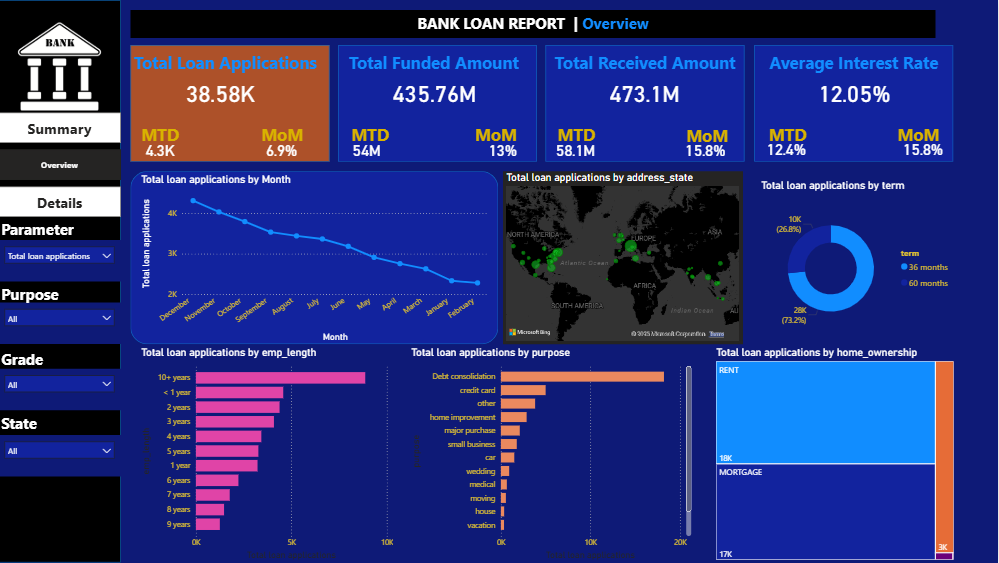

This screenshot's page, from the dashboard's own definition file:
{"tool":"powerbi","page":{"name":"Overview","canvas":[1600,900],"ordinal":1},"visuals":[{"type":"textbox","box":[211.7,15,1288.3,45],"z":0},{"type":"shape","box":[0,0,196.7,900],"z":1000},{"type":"shape","box":[211.7,71.7,318.3,186.7],"z":2000},{"type":"card","fields":{"Values":["financial_loan_full.Total loan applications"]},"box":[248.3,113.3,216.7,68.3],"z":3000},{"type":"card","fields":{"Values":["financial_loan_full.MTD loan applications"]},"box":[211.7,205,95,68.3],"z":4000},{"type":"card","fields":{"Values":["financial_loan_full.MoM Loan application"]},"box":[405,205,95,68.3],"z":5000},{"type":"textbox","box":[211.7,75,318.3,51.7],"z":6000},{"type":"textbox","box":[223.3,191.7,83.3,48.3],"z":7000},{"type":"textbox","box":[416.7,191.7,100,58.3],"z":8000},{"type":"shape","box":[543.3,71.7,318.3,186.7],"z":9000},{"type":"card","fields":{"Values":["financial_loan_full.Total Funded Amount"]},"box":[590,113.3,216.7,68.3],"z":10000},{"type":"card","fields":{"Values":["financial_loan_full.MTD Funded Amount"]},"box":[541.7,205,95,68.3],"z":11000},{"type":"textbox","box":[560,191.7,96.7,48.3],"z":12000},{"type":"card","fields":{"Values":["financial_loan_full.MoM Funded Amount"]},"box":[760,205,95,68.3],"z":13000},{"type":"textbox","box":[758.3,191.7,96.7,48.3],"z":14000},{"type":"textbox","box":[556.7,76.7,318.3,51.7],"z":15000},{"type":"shape","box":[875,71.7,318.3,186.7],"z":16000},{"type":"shape","box":[1210,71.7,318.3,186.7],"z":17000},{"type":"card","fields":{"Values":["financial_loan_full.Total Amount Received"]},"box":[926.7,113.3,216.7,68.3],"z":18000},{"type":"card","fields":{"Values":["financial_loan_full.MTD Received Amount"]},"box":[875,205,95,68.3],"z":19000},{"type":"textbox","box":[890,191.7,96.7,48.3],"z":20000},{"type":"card","fields":{"Values":["financial_loan_full.MTD Average Interest Rate"]},"box":[1214.3,204.3,94.3,68.6],"z":21000},{"type":"card","fields":{"Values":["financial_loan_full.MoM Received Amount"]},"box":[1083.3,206.7,95,68.3],"z":22000},{"type":"textbox","box":[1095,193.3,96.7,48.3],"z":23000},{"type":"textbox","box":[876.7,76.7,318.3,51.7],"z":24000},{"type":"card","fields":{"Values":["financial_loan_full.Average Intrest Rate"]},"box":[1261.7,113.3,216.7,68.3],"z":25000},{"type":"textbox","box":[1210,76.7,318.3,51.7],"z":26000},{"type":"textbox","box":[1228.6,192.9,97.1,48.6],"z":27000},{"type":"card","fields":{"Values":["financial_loan_full.MoM Received Amount"]},"box":[1432.9,204.3,95.7,68.6],"z":28000},{"type":"textbox","box":[1434.3,192.9,95.7,48.6],"z":29000},{"type":"slicer","fields":{"Values":["financial_loan_full.address_state"]},"box":[0,696.7,196.7,66.7],"z":30000},{"type":"textbox","box":[0,656.7,120,48.3],"z":31000},{"type":"slicer","fields":{"Values":["financial_loan_full.grade"]},"box":[0,590,196.7,66.7],"z":32000},{"type":"textbox","box":[0,553.3,120,48.3],"z":33000},{"type":"slicer","fields":{"Values":["financial_loan_full.purpose"]},"box":[0,483.3,196.7,66.7],"z":34000},{"type":"textbox","box":[0,450,120,48.3],"z":35000},{"type":"image","box":[0,8.3,196.7,196.7],"z":36000},{"type":"shape","box":[211.7,273.3,588.3,276.7],"z":37000},{"type":"lineChart","fields":{"Y":["financial_loan_full.Total loan applications"],"Category":["Date_Table.Month"]},"box":[223.3,276.7,565,276.7],"z":38000},{"type":"slicer","fields":{"Values":["Parameter.Parameter"]},"box":[0,383.3,196.7,66.7],"z":39000},{"type":"textbox","box":[0,346.7,196.7,48.3],"z":40000},{"type":"map","fields":{"Size":["financial_loan_full.Total loan applications"],"Category":["financial_loan_full.address_state"]},"box":[808.3,273.3,383.3,276.7],"z":41000},{"type":"donutChart","fields":{"Y":["financial_loan_full.Total loan applications"],"Category":["financial_loan_full.term"]},"box":[1215,285,318.3,268.3],"z":42000},{"type":"clusteredBarChart","fields":{"Y":["financial_loan_full.Total loan applications"],"Category":["financial_loan_full.emp_length"]},"box":[223.3,553.3,413.3,346.7],"z":43000},{"type":"clusteredBarChart","fields":{"Y":["financial_loan_full.Total loan applications"],"Category":["financial_loan_full.purpose"]},"box":[656.7,553.3,458.3,346.7],"z":44000},{"type":"treemap","fields":{"Values":["financial_loan_full.Total loan applications"],"Group":["financial_loan_full.home_ownership"]},"box":[1143.3,553.3,390,346.7],"z":45000},{"type":"pageNavigator","box":[0,180,197.5,167.5],"z":46000}]}

Visuals, with their boxes on the page's 1600x900 design canvas (x1, y1, x2, y2). These are canvas units, not pixel positions in the 999x563 screenshot, which may show the page scaled, cropped or inside an application window:
textbox: l=212, t=15, r=1500, b=60
shape: l=0, t=0, r=197, b=900
shape: l=212, t=72, r=530, b=258
card - financial_loan_full.Total loan applications: l=248, t=113, r=465, b=182
card - financial_loan_full.MTD loan applications: l=212, t=205, r=307, b=273
card - financial_loan_full.MoM Loan application: l=405, t=205, r=500, b=273
textbox: l=212, t=75, r=530, b=127
textbox: l=223, t=192, r=307, b=240
textbox: l=417, t=192, r=517, b=250
shape: l=543, t=72, r=862, b=258
card - financial_loan_full.Total Funded Amount: l=590, t=113, r=807, b=182
card - financial_loan_full.MTD Funded Amount: l=542, t=205, r=637, b=273
textbox: l=560, t=192, r=657, b=240
card - financial_loan_full.MoM Funded Amount: l=760, t=205, r=855, b=273
textbox: l=758, t=192, r=855, b=240
textbox: l=557, t=77, r=875, b=128
shape: l=875, t=72, r=1193, b=258
shape: l=1210, t=72, r=1528, b=258
card - financial_loan_full.Total Amount Received: l=927, t=113, r=1143, b=182
card - financial_loan_full.MTD Received Amount: l=875, t=205, r=970, b=273
textbox: l=890, t=192, r=987, b=240
card - financial_loan_full.MTD Average Interest Rate: l=1214, t=204, r=1309, b=273
card - financial_loan_full.MoM Received Amount: l=1083, t=207, r=1178, b=275
textbox: l=1095, t=193, r=1192, b=242
textbox: l=877, t=77, r=1195, b=128
card - financial_loan_full.Average Intrest Rate: l=1262, t=113, r=1478, b=182
textbox: l=1210, t=77, r=1528, b=128
textbox: l=1229, t=193, r=1326, b=242
card - financial_loan_full.MoM Received Amount: l=1433, t=204, r=1529, b=273
textbox: l=1434, t=193, r=1530, b=242
slicer - financial_loan_full.address_state: l=0, t=697, r=197, b=763
textbox: l=0, t=657, r=120, b=705
slicer - financial_loan_full.grade: l=0, t=590, r=197, b=657
textbox: l=0, t=553, r=120, b=602
slicer - financial_loan_full.purpose: l=0, t=483, r=197, b=550
textbox: l=0, t=450, r=120, b=498
image: l=0, t=8, r=197, b=205
shape: l=212, t=273, r=800, b=550
lineChart - financial_loan_full.Total loan applications x Date_Table.Month: l=223, t=277, r=788, b=553
slicer - Parameter.Parameter: l=0, t=383, r=197, b=450
textbox: l=0, t=347, r=197, b=395
map - financial_loan_full.Total loan applications x financial_loan_full.address_state: l=808, t=273, r=1192, b=550
donutChart - financial_loan_full.Total loan applications x financial_loan_full.term: l=1215, t=285, r=1533, b=553
clusteredBarChart - financial_loan_full.Total loan applications x financial_loan_full.emp_length: l=223, t=553, r=637, b=900
clusteredBarChart - financial_loan_full.Total loan applications x financial_loan_full.purpose: l=657, t=553, r=1115, b=900
treemap - financial_loan_full.Total loan applications x financial_loan_full.home_ownership: l=1143, t=553, r=1533, b=900
pageNavigator: l=0, t=180, r=198, b=348
